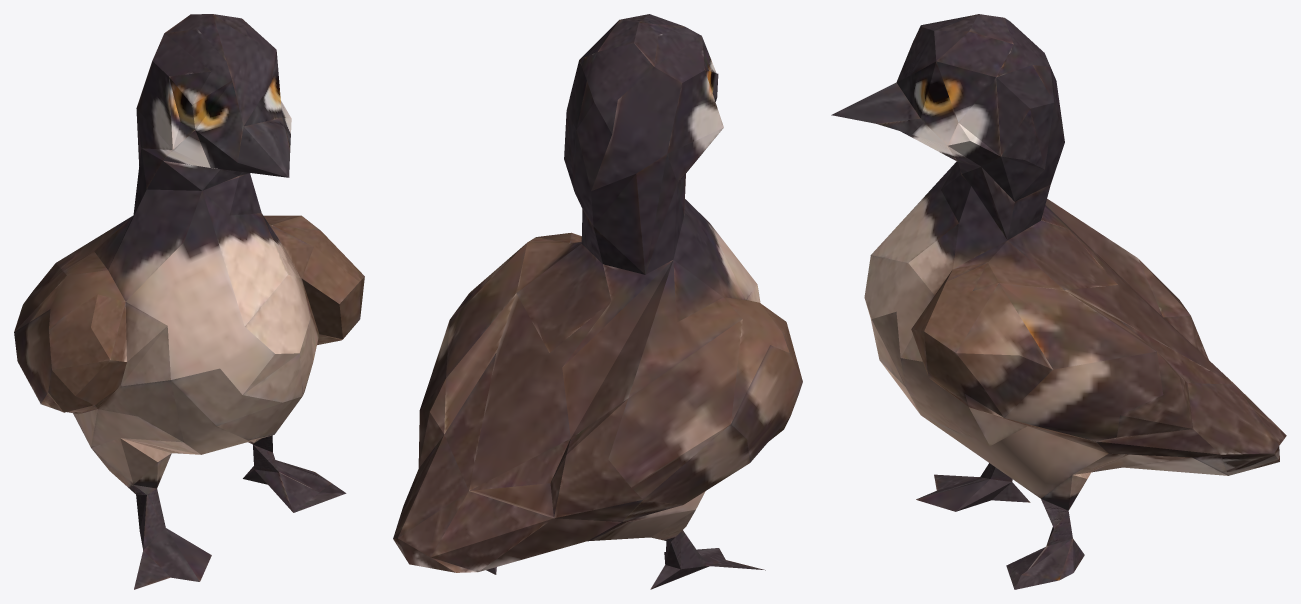
Rendered from goose-lod.glb.
The picture shows the model from 3 angles, left to right: view 1: azimuth 30°, elevation 25°; view 2: azimuth 150°, elevation 25°; view 3: azimuth 270°, elevation 25°; orthographic projection. The views are drawn at different scales.
Visible parts, largest first — view 1: output_unwrapped; view 2: output_unwrapped; view 3: output_unwrapped.
Part boxes in pixels (x1,y1,x2,y2): output_unwrapped: (14,14,364,589); output_unwrapped: (393,14,802,589); output_unwrapped: (831,14,1286,589).
Bounding box in the file's own units: 0.4928 × 0.8 × 0.65.
1 material, 1 textured.
